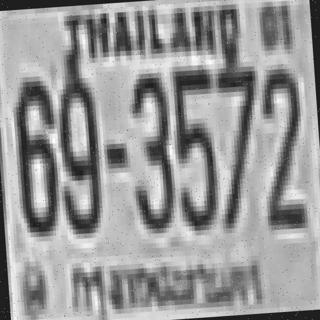N02: (256, 63, 306, 226)
N03: (124, 68, 175, 230)
N05: (169, 65, 217, 227)
N06: (11, 76, 58, 233)
N07: (212, 59, 262, 226), (214, 61, 259, 175)
N09: (53, 70, 101, 232)
P04: (65, 240, 270, 320)
